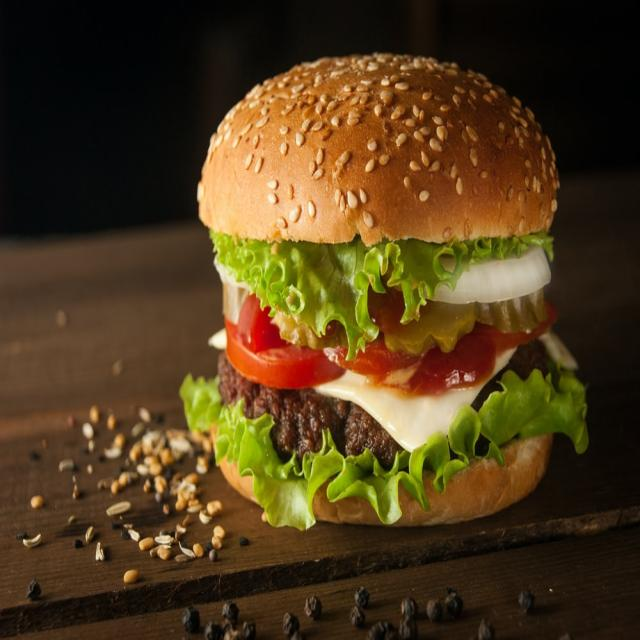burger: (163, 50, 594, 525)
